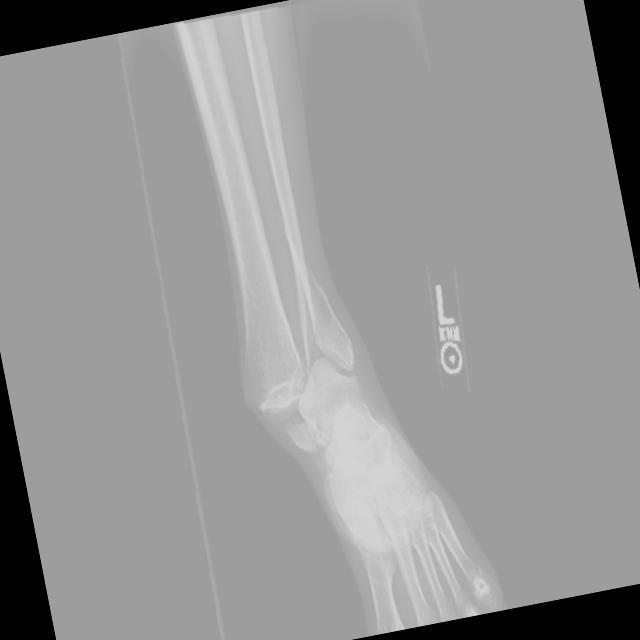Fracture Dislocation: (288, 284, 381, 374)
